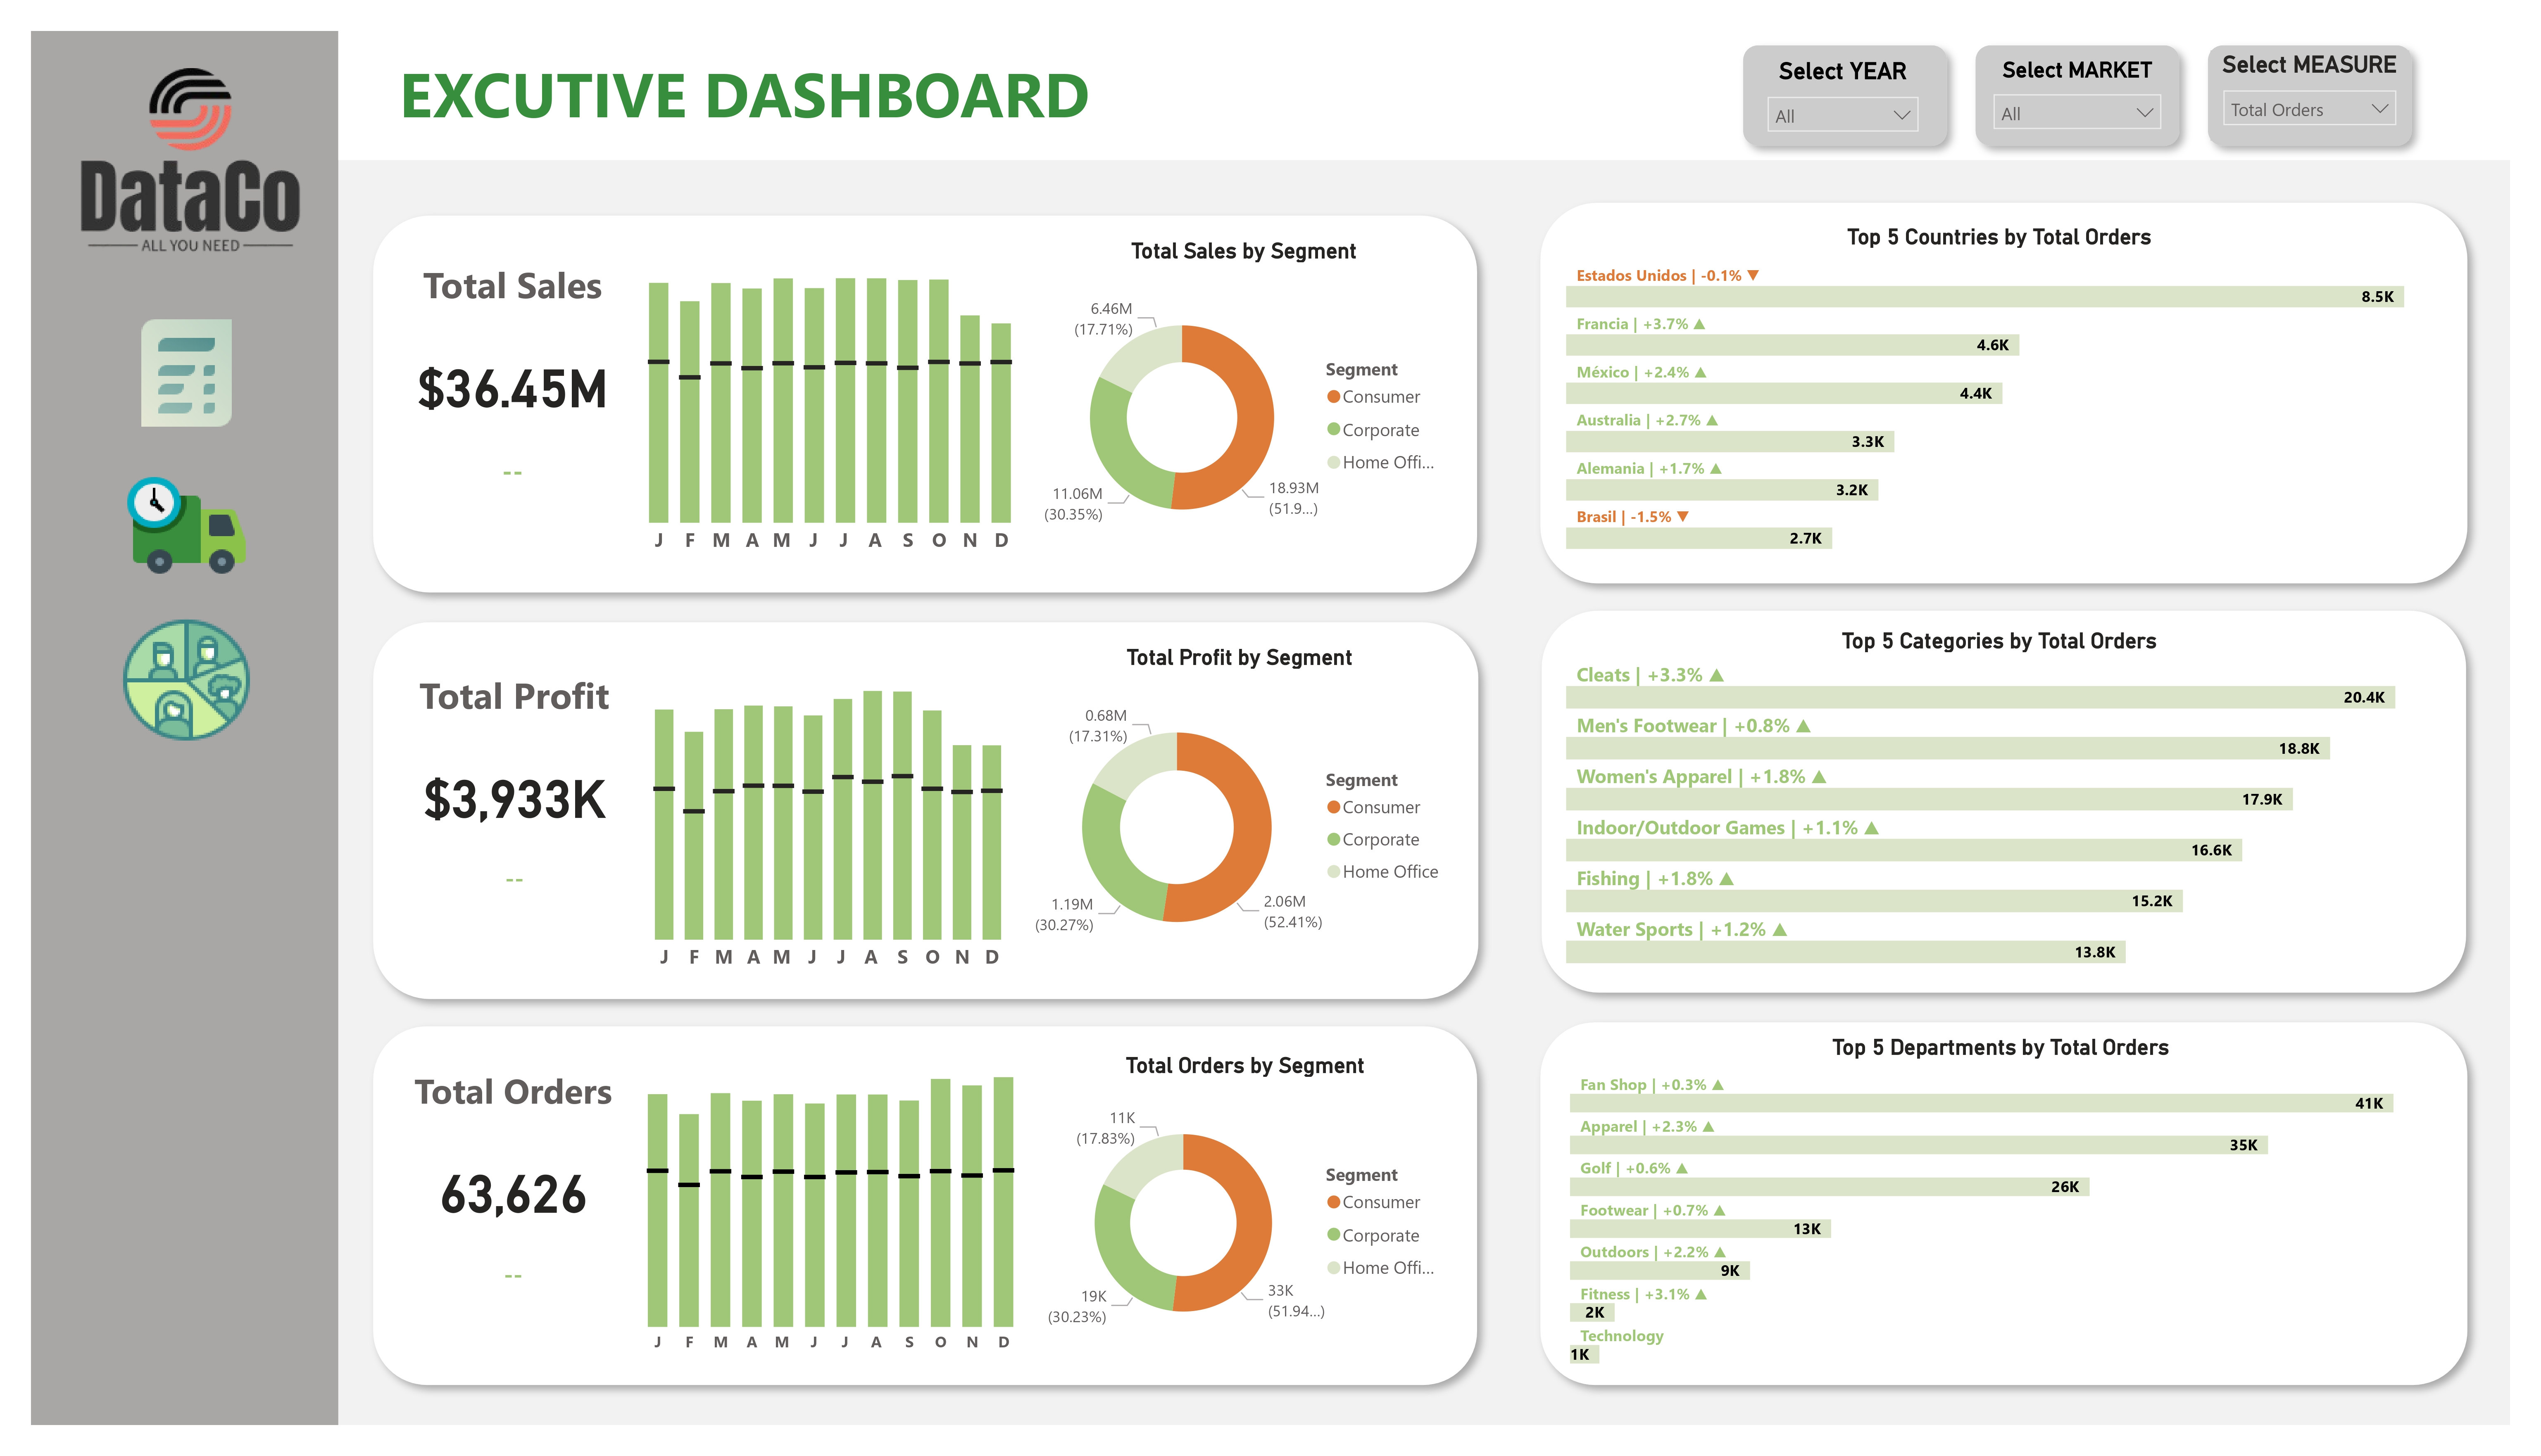

This screenshot's page, from the dashboard's own definition file:
{"tool":"tableau","page":{"name":"EXCUTIVE dashboard","canvas":[1600,900],"ordinal":2},"visuals":[{"type":"image","param":"Image/Template EXCUTIVE DASH.jpg","box":[8,8,1584,884]},{"type":"filter","title":"Top Country","param":"[federated.1q7cowo1s3advo10dbl711lnegs0].[none:Customer Market:nk]","box":[1406,19,160,51]},{"type":"parameter","param":"[Parameters].[Parameter 1]","box":[1067,20,160,49]},{"type":"parameter","param":"[Parameters].[Year PARAMETER (copy)_1693916422487871500]","box":[1236,20,160,50]},{"type":"text","box":[208,22,520,44]},{"type":"worksheet","title":"Top Country","mark":"Automatic","rows":["Customer Country"],"cols":["Measure PY SELECTOR (copy)_1693916422518186040"],"box":[922,118,599,213]},{"type":"worksheet","title":"Sales KPI","mark":"Automatic","box":[259,131,91,203]},{"type":"worksheet","title":"BAR: Sales over month","mark":"Automatic","rows":["Total Sales PY (copy)_1693916422497288220","Calculation_1693916422485458953"],"cols":["Calculation_1693916422500450339"],"box":[350,131,257,203]},{"type":"blank","box":[607,131,2,203]},{"type":"worksheet","title":"Table: Sales by SEGMENT","mark":"Automatic","rows":["Customer Segment"],"cols":["Total Sales PY (copy)_1693916422497288220","Calculation_1693916422485458953","Calculation_1693916422512300084"],"box":[609,131,249,203]},{"type":"dashboard-object","box":[57,178,111,92.3]},{"type":"dashboard-object","box":[57,270.3,111,92.3]},{"type":"dashboard-object","box":[57,362.7,111,92.3]},{"type":"worksheet","title":"Top Department","mark":"Automatic","rows":["Department Name"],"cols":["Measure PY SELECTOR (copy)_1693916422518186040"],"box":[915,378,605,207]},{"type":"worksheet","title":"Profits KPI","mark":"Automatic","box":[260,379,91,204]},{"type":"worksheet","title":"BAR: Profits over month","mark":"Automatic","rows":["Total Profits PY (copy)_1693916422497722397","Calculation_1693916422487408650"],"cols":["Calculation_1693916422500450339"],"box":[351,379,257,204]},{"type":"worksheet","title":"Table: Profits by SEGMENT","mark":"Automatic","rows":["Customer Segment"],"cols":["Total Profits PY (copy)_1693916422497722397","Calculation_1693916422487408650","Calculation_1693916422512300084"],"box":[608,379,252,204]},{"type":"worksheet","title":"Order KPI","mark":"Automatic","box":[265,626,92,208]},{"type":"worksheet","title":"BAR: Orders over month","mark":"Automatic","rows":["Total Orders PY (copy)_1693916422495088666","Calculation_1693916422488457230"],"cols":["Calculation_1693916422500450339"],"box":[357,626,248,208]},{"type":"worksheet","title":"Table: Ordes by SEGMENT","mark":"Automatic","rows":["Customer Segment"],"cols":["Total Orders PY (copy)_1693916422495088666","Calculation_1693916422488457230","Calculation_1693916422512300084"],"box":[605,626,256,208]},{"type":"worksheet","title":"Top Category","mark":"Automatic","rows":["Category Name"],"cols":["Measure PY SELECTOR (copy)_1693916422518186040"],"box":[915,630,610,205]}]}

Visuals, with their boxes in screenshot pixels (x1, y1, x2, y2), scaled from the page's 1600x900 canvas onto the 2541x1456 screenshot:
image: locate(13, 13, 2528, 1443)
"Top Country" filter: locate(2233, 31, 2487, 113)
parameter: locate(1694, 32, 1949, 112)
parameter: locate(1963, 32, 2217, 113)
text: locate(331, 36, 1156, 107)
"Top Country" worksheet: locate(1464, 191, 2415, 535)
"Sales KPI" worksheet: locate(412, 212, 556, 540)
"BAR: Sales over month" worksheet: locate(556, 212, 964, 540)
blank: locate(964, 212, 967, 540)
"Table: Sales by SEGMENT" worksheet: locate(967, 212, 1363, 540)
dashboard-object: locate(90, 288, 267, 437)
dashboard-object: locate(90, 437, 267, 587)
dashboard-object: locate(90, 587, 267, 736)
"Top Department" worksheet: locate(1453, 611, 2414, 946)
"Profits KPI" worksheet: locate(413, 613, 557, 943)
"BAR: Profits over month" worksheet: locate(557, 613, 966, 943)
"Table: Profits by SEGMENT" worksheet: locate(966, 613, 1366, 943)
"Order KPI" worksheet: locate(421, 1013, 567, 1349)
"BAR: Orders over month" worksheet: locate(567, 1013, 961, 1349)
"Table: Ordes by SEGMENT" worksheet: locate(961, 1013, 1367, 1349)
"Top Category" worksheet: locate(1453, 1019, 2422, 1351)
